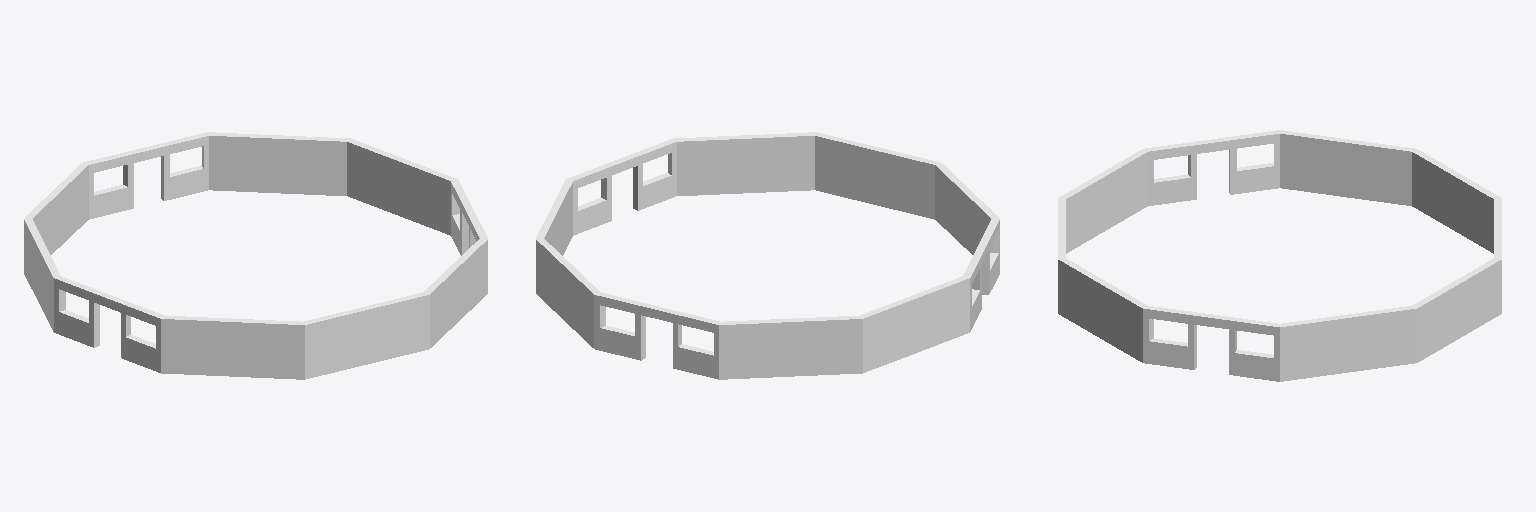
Rendered from Walls.obj.
3 views of the same model, side by side, from view 1: azimuth 30°, elevation 25°; view 2: azimuth 150°, elevation 25°; view 3: azimuth 270°, elevation 25° (orthographic).
Parts seen in each view (by area): view 1: Walls; view 2: Walls; view 3: Walls.
Boxes of the visible parts, x1,y1,x2,y2 form: Walls: [24, 132, 487, 379]; Walls: [536, 132, 999, 379]; Walls: [1058, 130, 1501, 381].
Bounding box in the file's own units: 23.25 × 3 × 22.11.